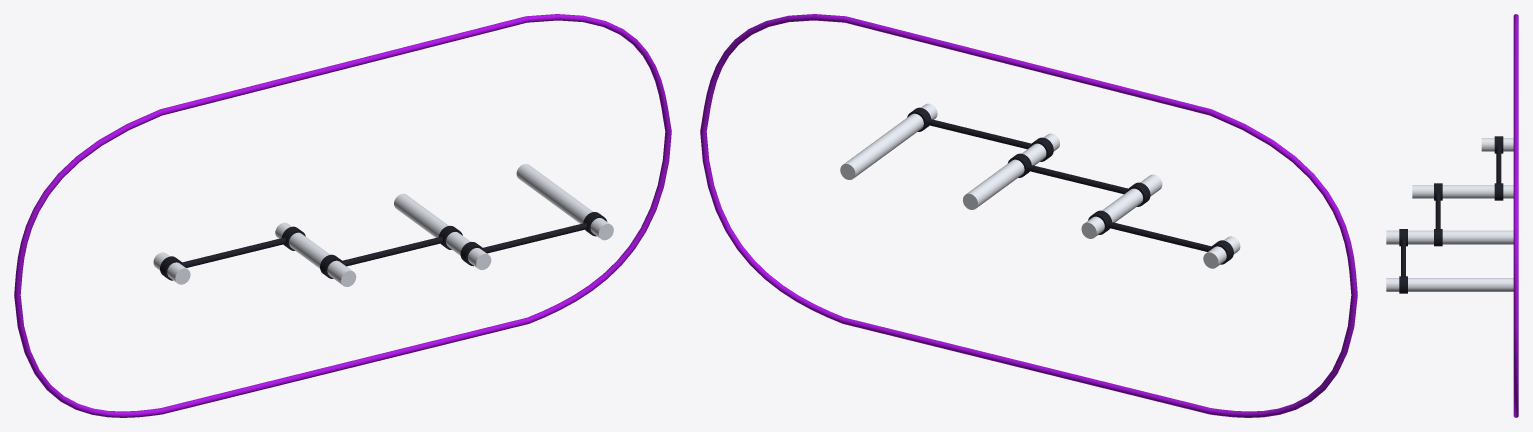
The model's file is kpro-001.glb.
The picture shows the model from 3 angles, left to right: view 1: azimuth 30°, elevation 25°; view 2: azimuth 150°, elevation 25°; view 3: azimuth 270°, elevation 25°; orthographic projection. The views are drawn at different scales.
Visible parts, largest first — view 1: _outline.010, circle.007, circle.006, circle.005, Cylinder.045, Cylinder.033, Cylinder.034; view 2: _outline.010, circle.007, circle.006, circle.005, Cylinder.045, Cylinder.033, Cylinder.034; view 3: _outline.010, circle.007, circle.006, circle.005, circle.004, Cylinder.033, Cylinder.034, Cylinder.045, Cylinder.043, Cylinder.044, Cylinder.047, Cylinder.031.
Boxes of the visible parts, <box> form: _outline.010: <box>14,14,671,417</box>; circle.007: <box>516,164,613,240</box>; circle.006: <box>394,193,491,269</box>; circle.005: <box>275,222,356,286</box>; Cylinder.045: <box>483,222,587,253</box>; Cylinder.033: <box>182,237,285,267</box>; Cylinder.034: <box>342,236,442,266</box>; _outline.010: <box>700,14,1357,417</box>; circle.007: <box>840,103,937,179</box>; circle.006: <box>963,133,1059,209</box>; circle.005: <box>1081,174,1162,238</box>; Cylinder.045: <box>927,118,1030,149</box>; Cylinder.033: <box>1108,221,1211,251</box>; Cylinder.034: <box>1027,164,1127,194</box>; _outline.010: <box>1513,14,1518,417</box>; circle.007: <box>1386,278,1513,291</box>; circle.006: <box>1386,230,1513,244</box>; circle.005: <box>1412,185,1513,198</box>; circle.004: <box>1481,138,1513,151</box>; Cylinder.033: <box>1496,145,1501,183</box>; Cylinder.034: <box>1435,192,1440,228</box>; Cylinder.045: <box>1401,238,1405,276</box>; Cylinder.043: <box>1494,183,1503,200</box>; Cylinder.044: <box>1434,229,1442,246</box>; Cylinder.047: <box>1399,276,1407,293</box>; Cylinder.031: <box>1494,136,1503,153</box>.
Bounding box in the file's own units: 6.92 × 3.11 × 1.53.
